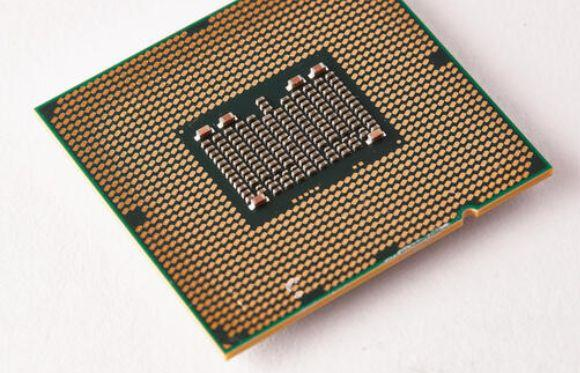electronic: (32, 0, 557, 361)
